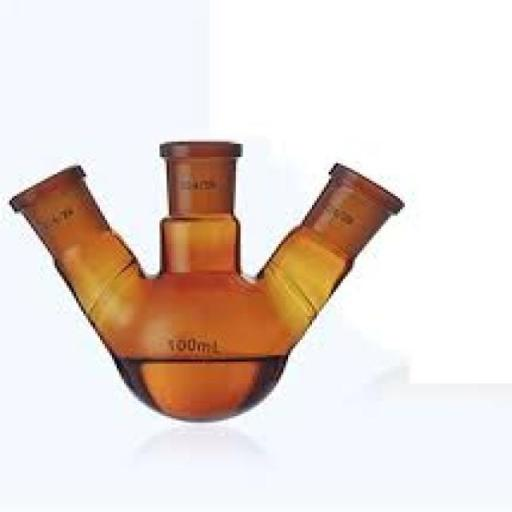glass: (10, 117, 414, 438)
